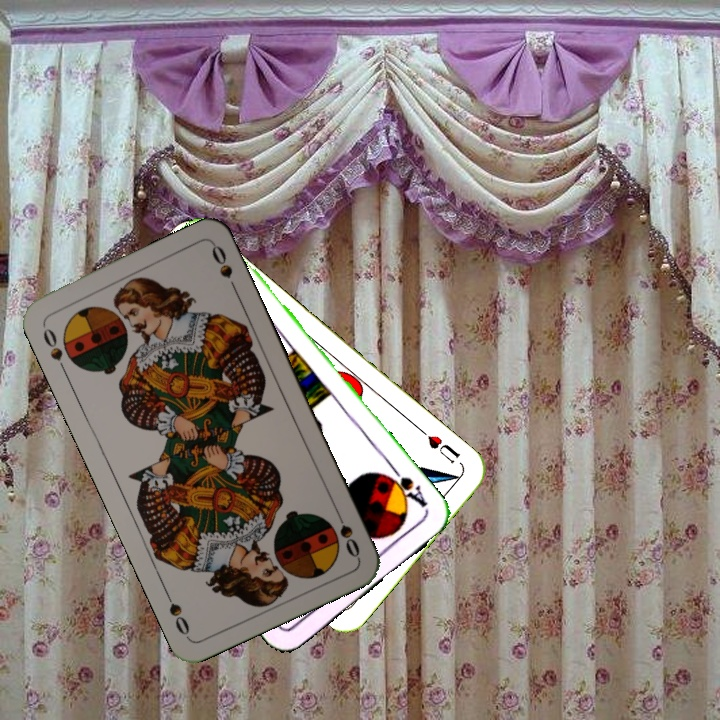HU: (415, 424, 463, 467)
SA: (380, 462, 431, 510)
SO: (331, 504, 363, 560), (38, 320, 69, 376)
